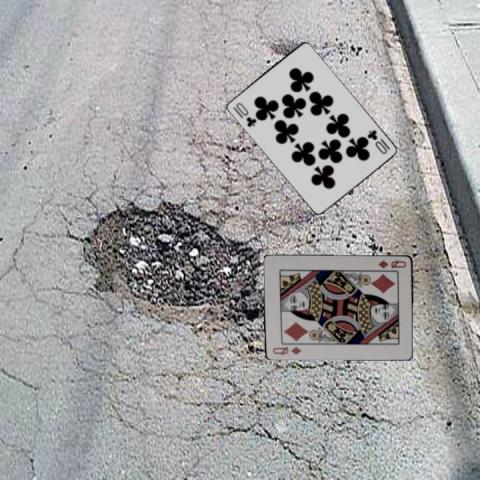10c: (230, 99, 258, 129), (364, 127, 391, 155)
Qd: (375, 257, 408, 270), (270, 343, 303, 356)
